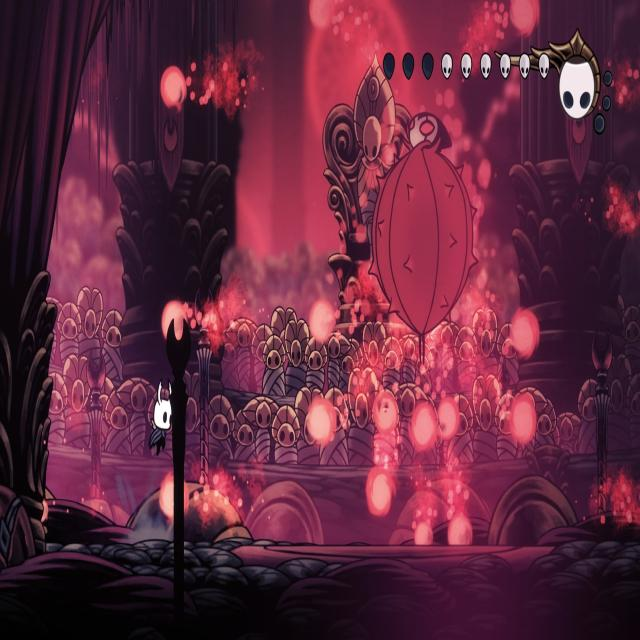Player: (144, 380, 172, 460)
Pufferfish: (368, 107, 485, 381)
Tiny Fireballs: (158, 471, 190, 521), (306, 397, 336, 447), (510, 308, 539, 358), (366, 467, 394, 517), (510, 395, 536, 448), (409, 402, 436, 450), (162, 299, 190, 345), (160, 65, 186, 112), (308, 300, 334, 344), (509, 0, 539, 37), (372, 390, 398, 432), (436, 398, 459, 442), (448, 514, 472, 546), (308, 0, 331, 29), (414, 521, 432, 545)
